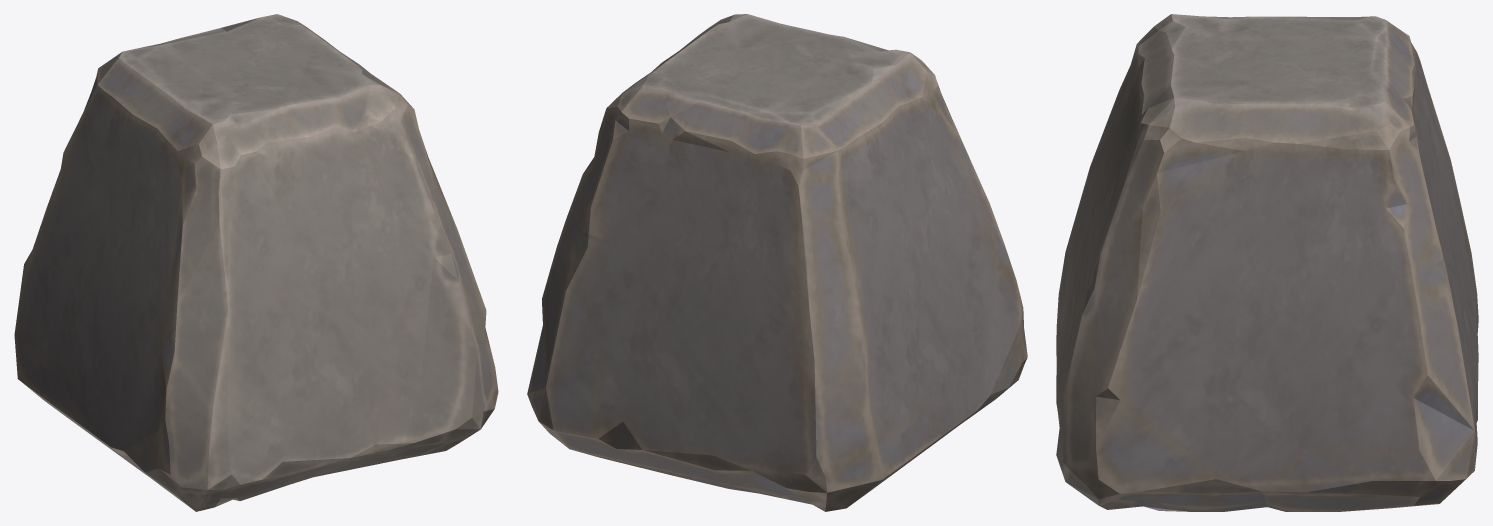
The model's file is Ruined_Cube02.fbx.
3 views of the same model, side by side, from view 1: azimuth 30°, elevation 25°; view 2: azimuth 150°, elevation 25°; view 3: azimuth 270°, elevation 25° (orthographic). The views are drawn at different scales.
Visible parts, largest first — view 1: Ruined_Cube_L2.001; view 2: Ruined_Cube_L2.001; view 3: Ruined_Cube_L2.001.
Boxes of the visible parts, left/top/right/bottom form: Ruined_Cube_L2.001: left=14, top=14, right=498, bottom=511; Ruined_Cube_L2.001: left=527, top=14, right=1027, bottom=511; Ruined_Cube_L2.001: left=1056, top=14, right=1478, bottom=511.
Bounding box in the file's own units: 200 × 200 × 200.
1 material, 1 textured.
